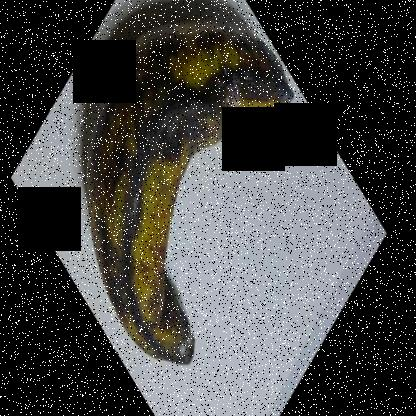overripe: (75, 2, 307, 380)
